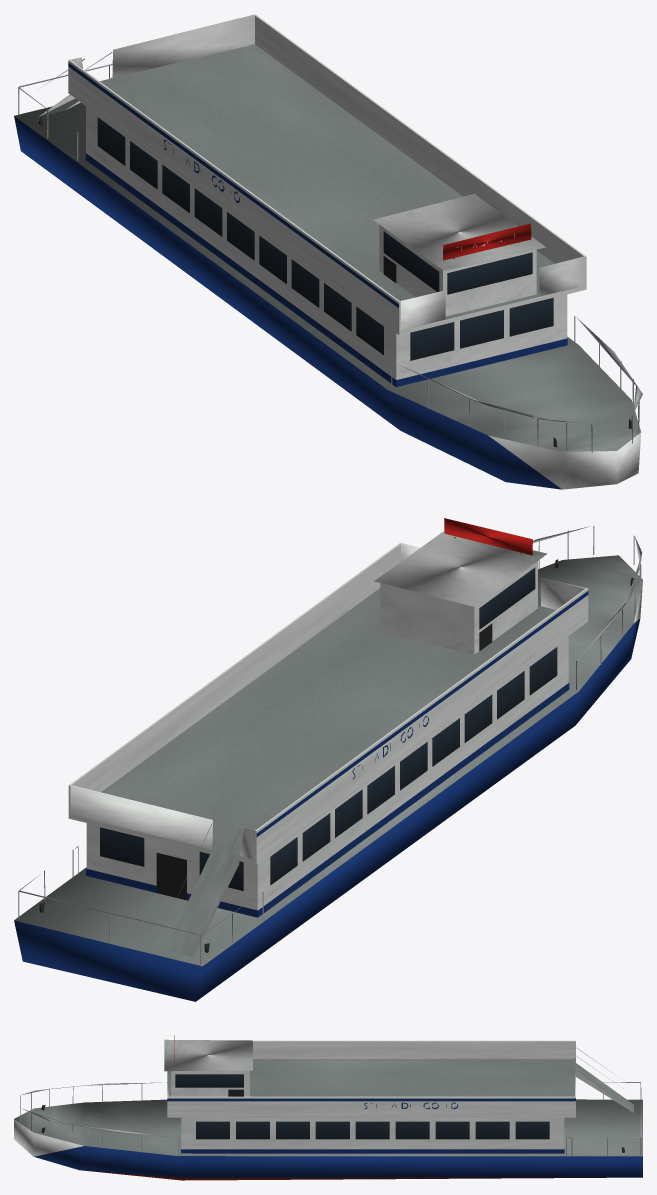
File: SM_Morin_Battello_LOD2.fbx
3 renders of one model, top to bottom at view 1: azimuth 30°, elevation 25°; view 2: azimuth 150°, elevation 25°; view 3: azimuth 270°, elevation 25°, orthographic. The views are drawn at different scales.
Visible parts, largest first — view 1: SM_Morin_Battello_LOD2; view 2: SM_Morin_Battello_LOD2; view 3: SM_Morin_Battello_LOD2.
Boxes of the visible parts, x1=… form: SM_Morin_Battello_LOD2: x1=14, y1=14, x2=642, y2=489; SM_Morin_Battello_LOD2: x1=14, y1=518, x2=642, y2=1001; SM_Morin_Battello_LOD2: x1=14, y1=1035, x2=642, y2=1180.
Size of the model in its own units: 687 by 3201 by 715.
Materials: 1 (1 with a texture image).
